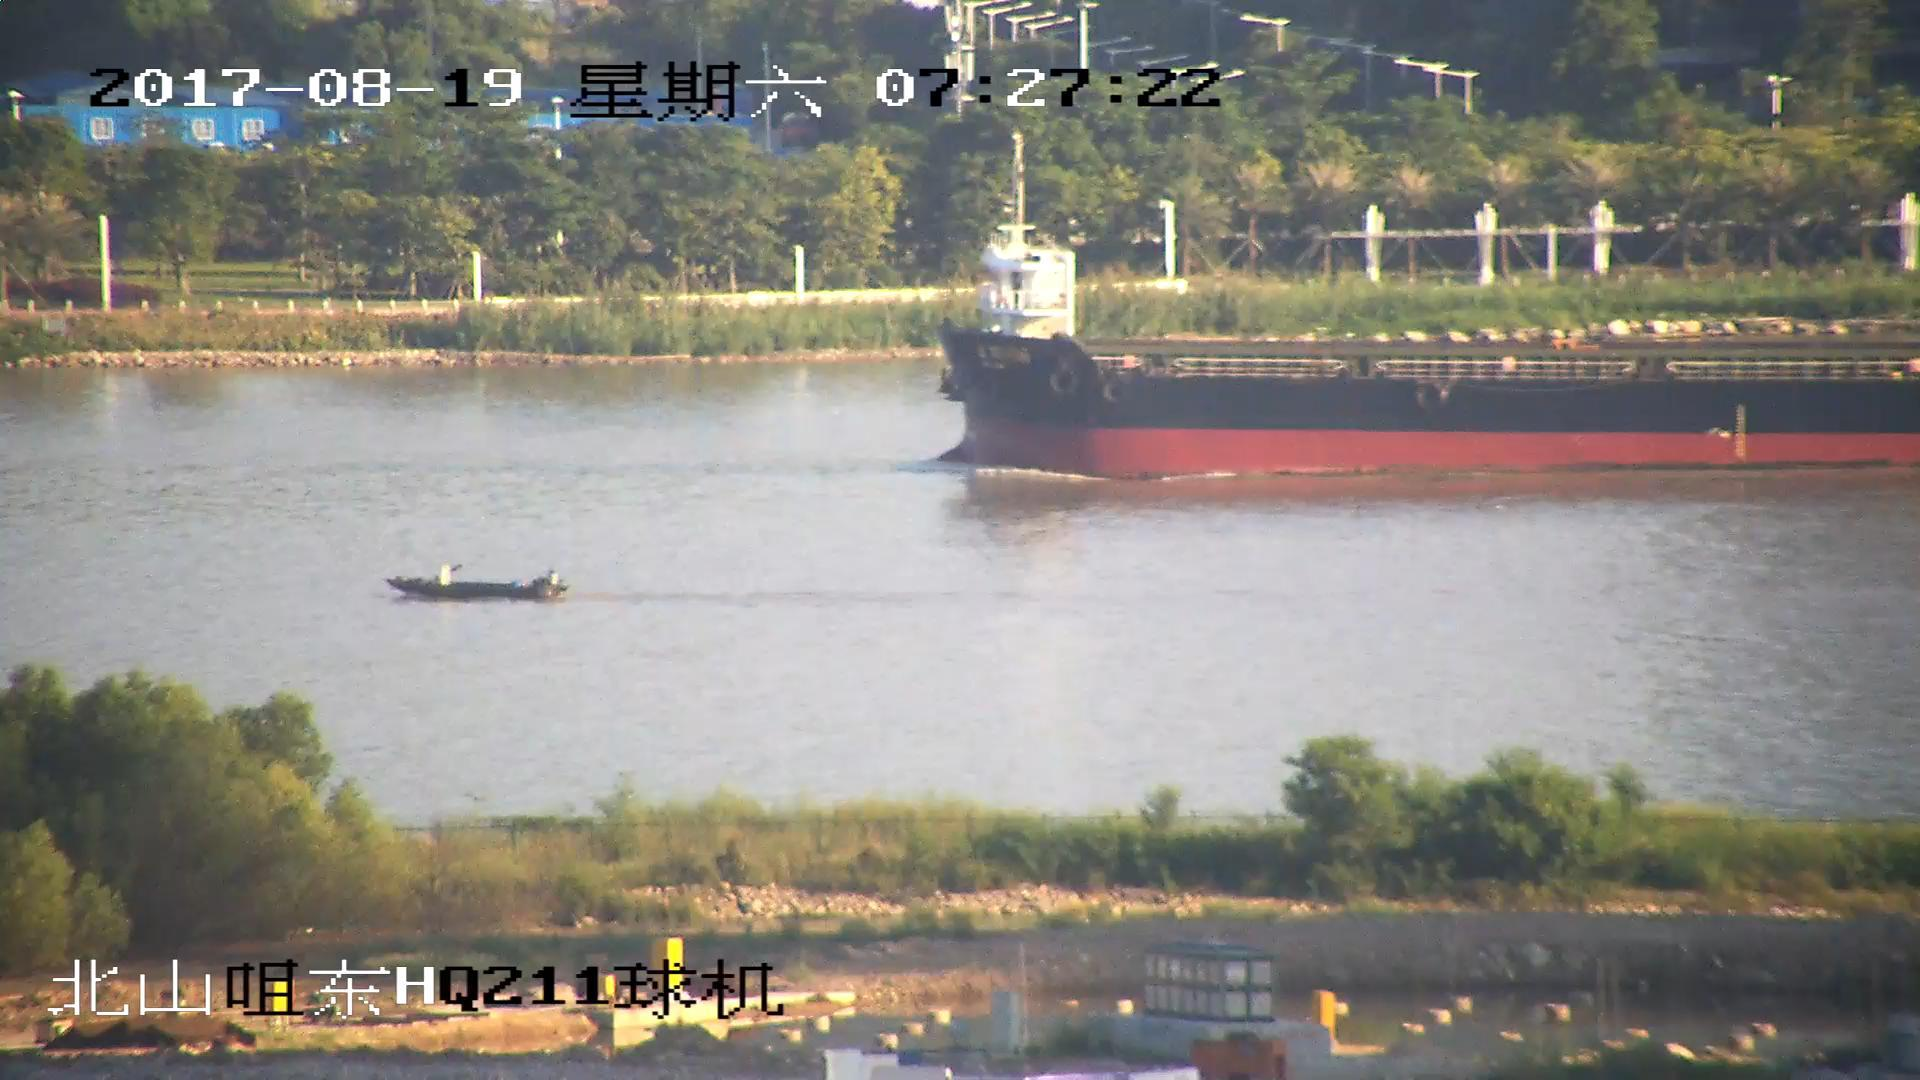Ship: (938, 218, 1920, 481), (396, 563, 570, 611)
